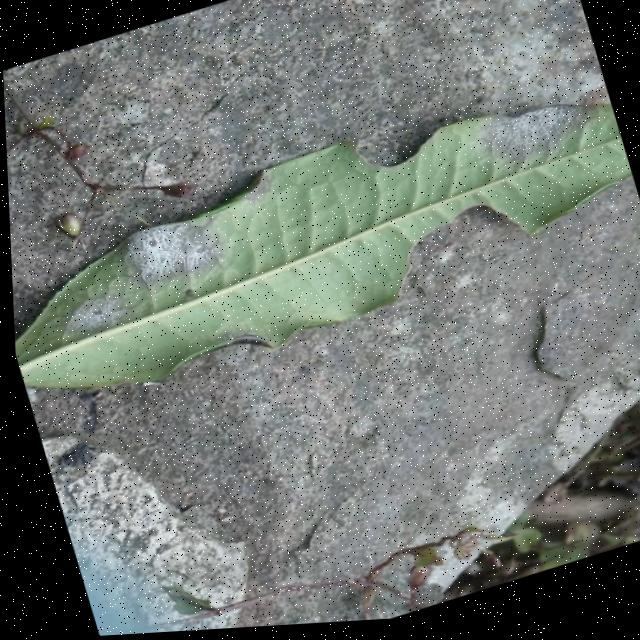Tea exobasidium blight: (119, 197, 246, 299), (481, 101, 602, 182), (54, 281, 129, 354), (235, 165, 278, 213)
